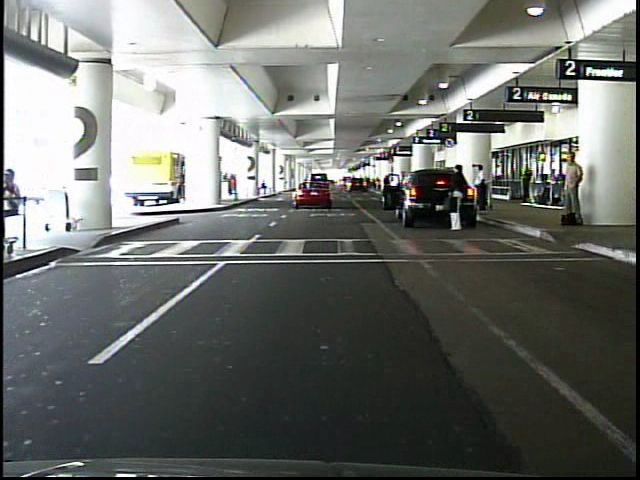person: (1, 170, 30, 235), (448, 165, 467, 233), (472, 164, 488, 212), (521, 161, 533, 201)
